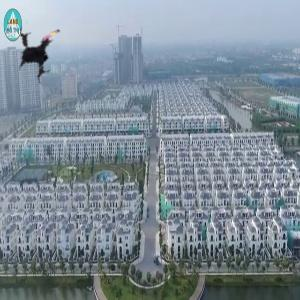drone: (8, 17, 80, 89)
